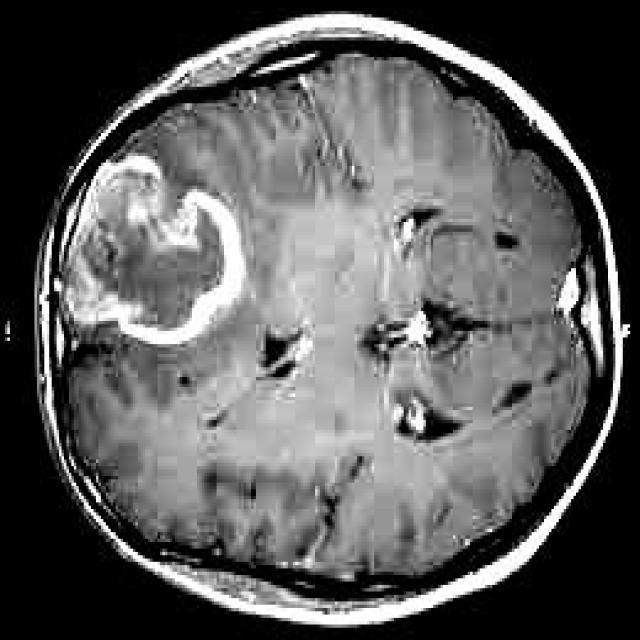tumor: (69, 152, 249, 346)
